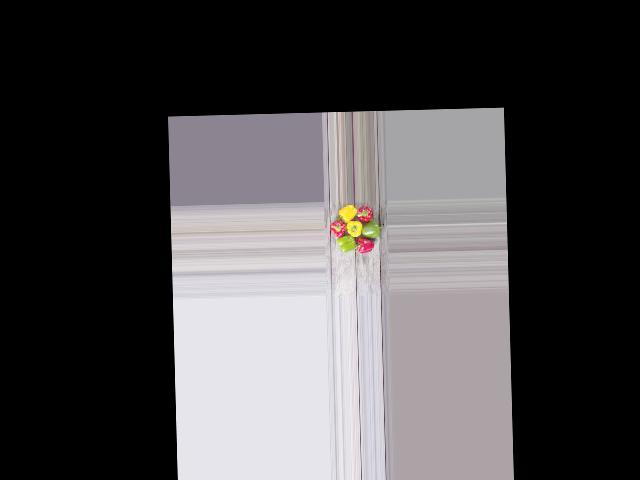bell_pepper: (353, 202, 373, 222)
